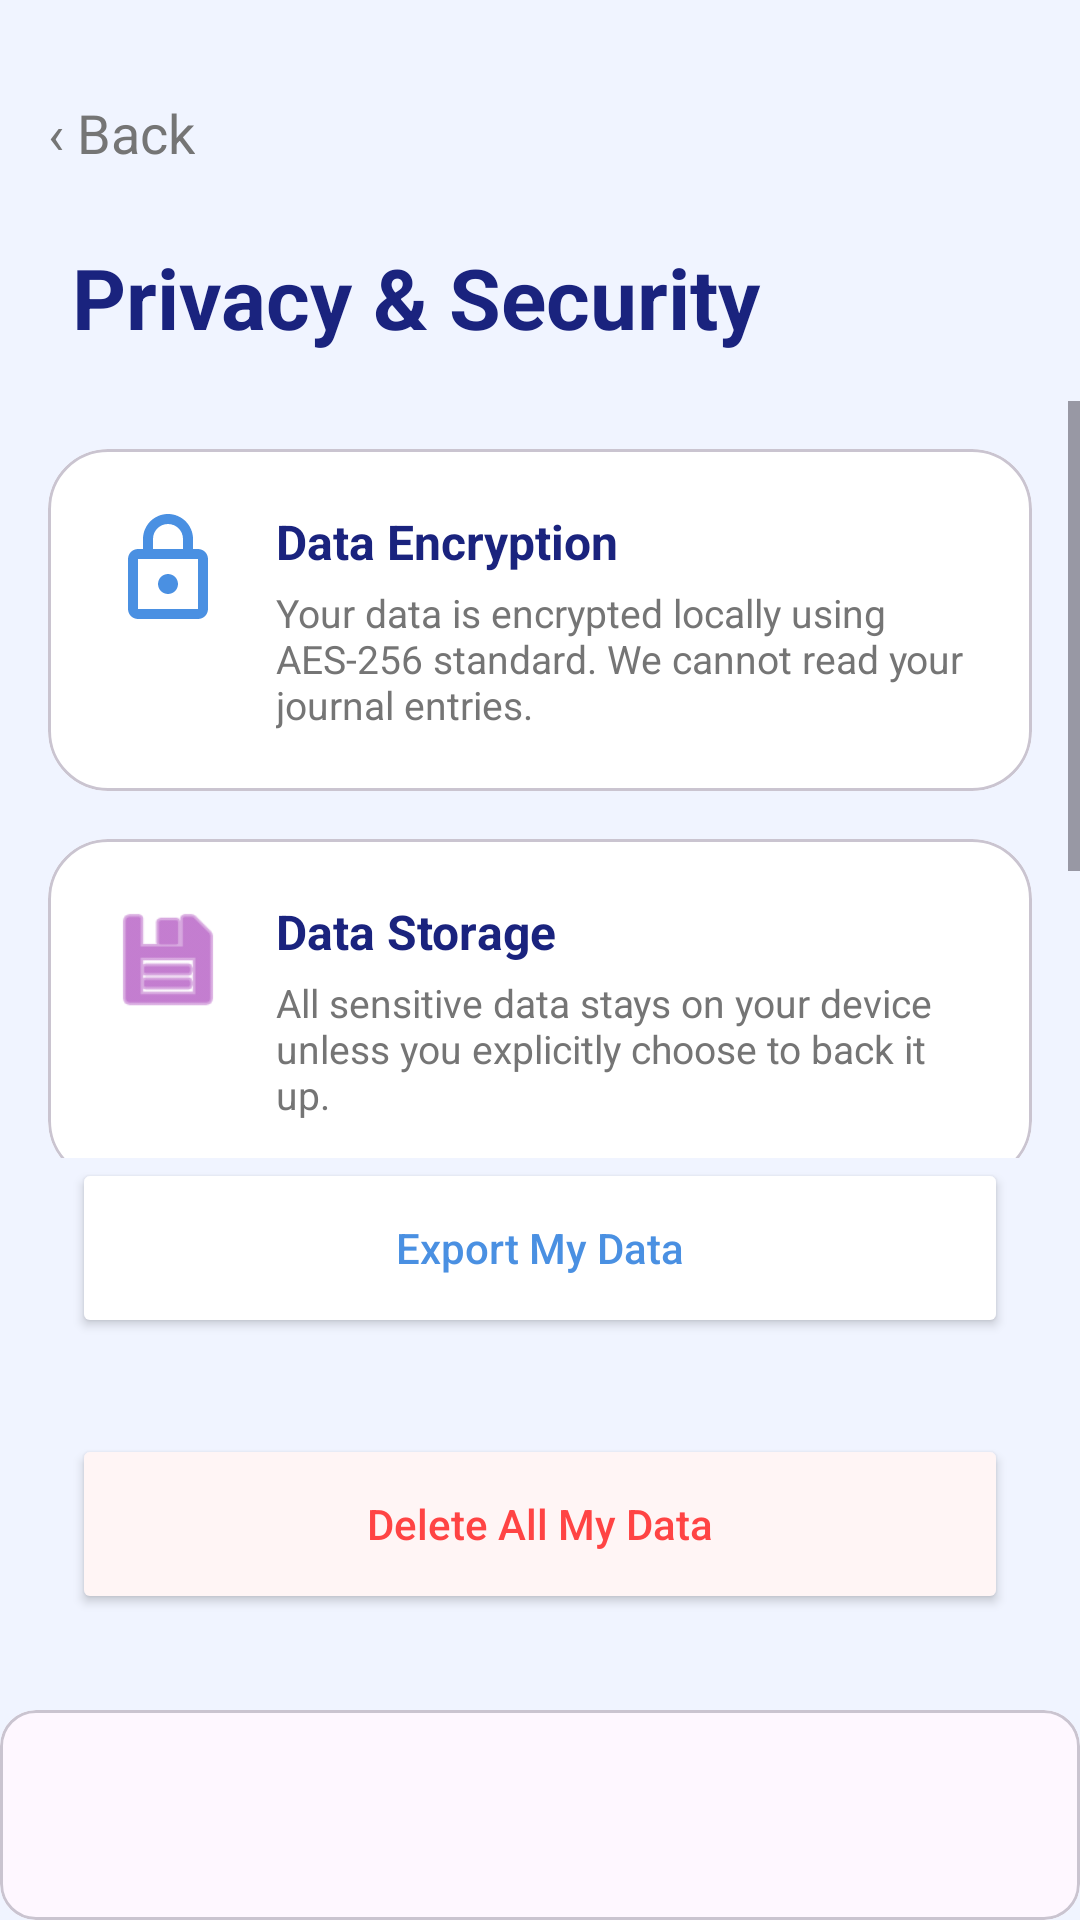

Icons on this 1080px×1920px Android screen, each with its box as bbox=(x1, y1, x2, y2):
lock: bbox=(128, 514, 208, 619)
save: bbox=(123, 914, 213, 1005)
